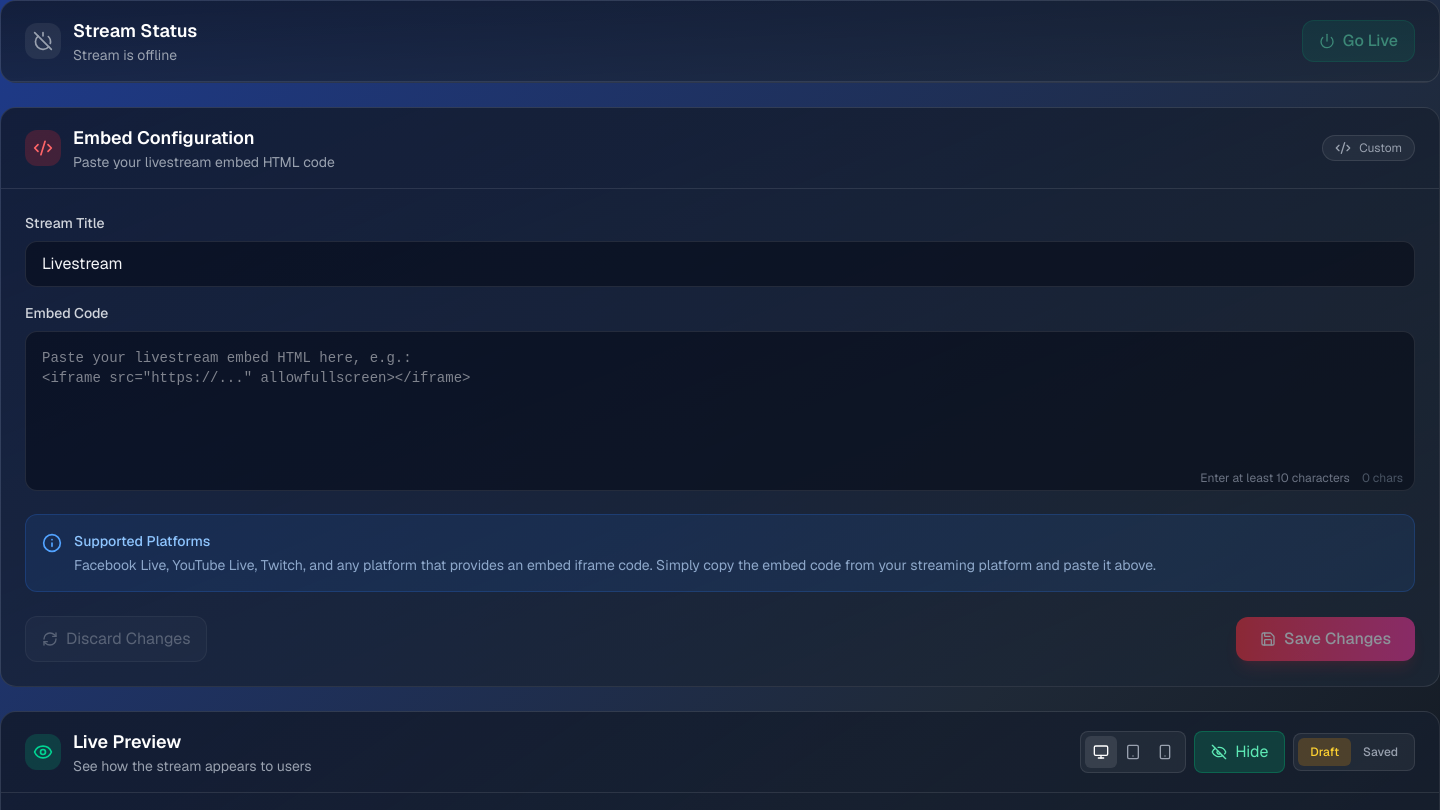
Test: LiveStreamManager › discards back to defaults when nothing was saved
Replace the text in the field with placeholder "Enter stream title" with "Something" at [720, 264], box [25, 241, 1415, 287]
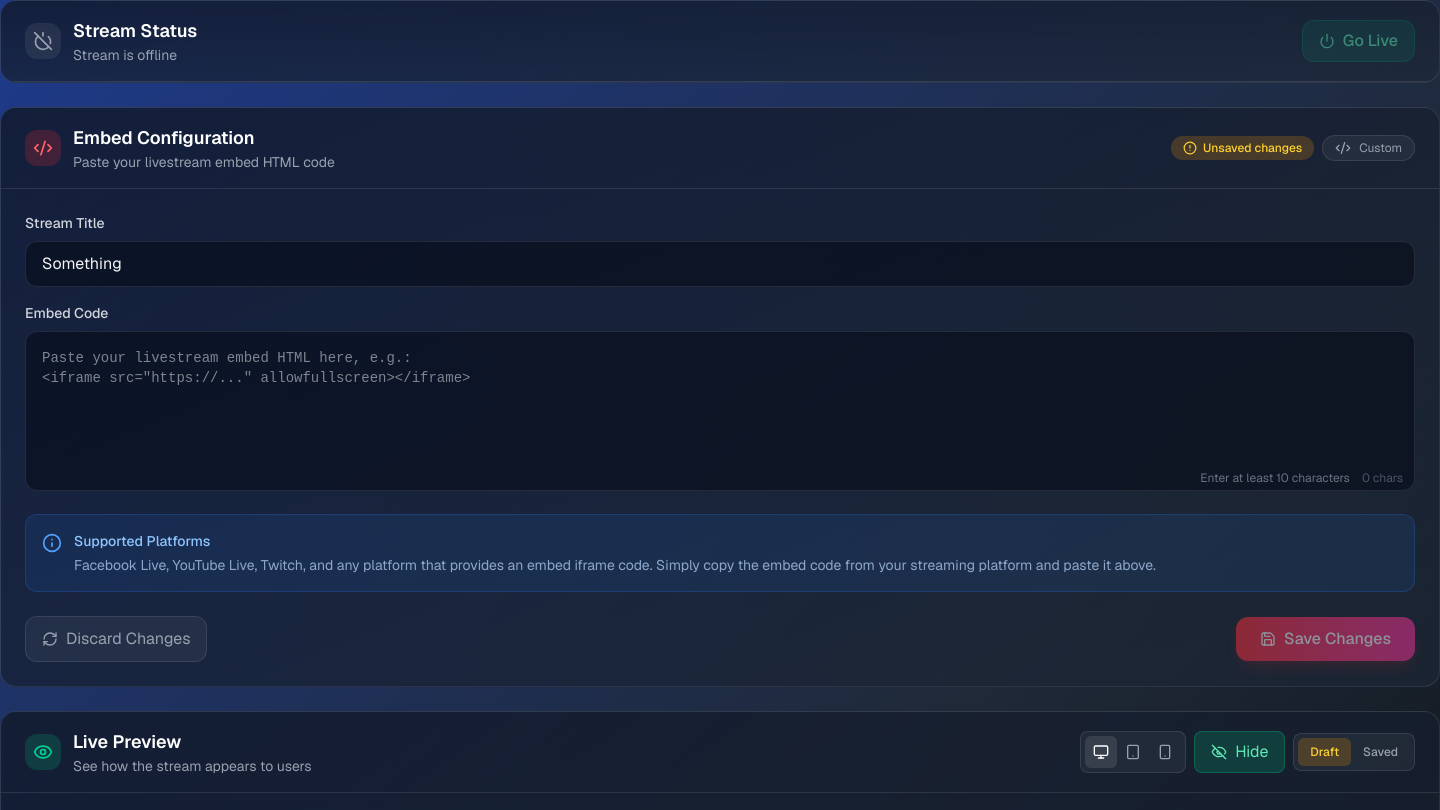
Click the button "Discard Changes".
click(116, 639)  # box [25, 616, 208, 662]
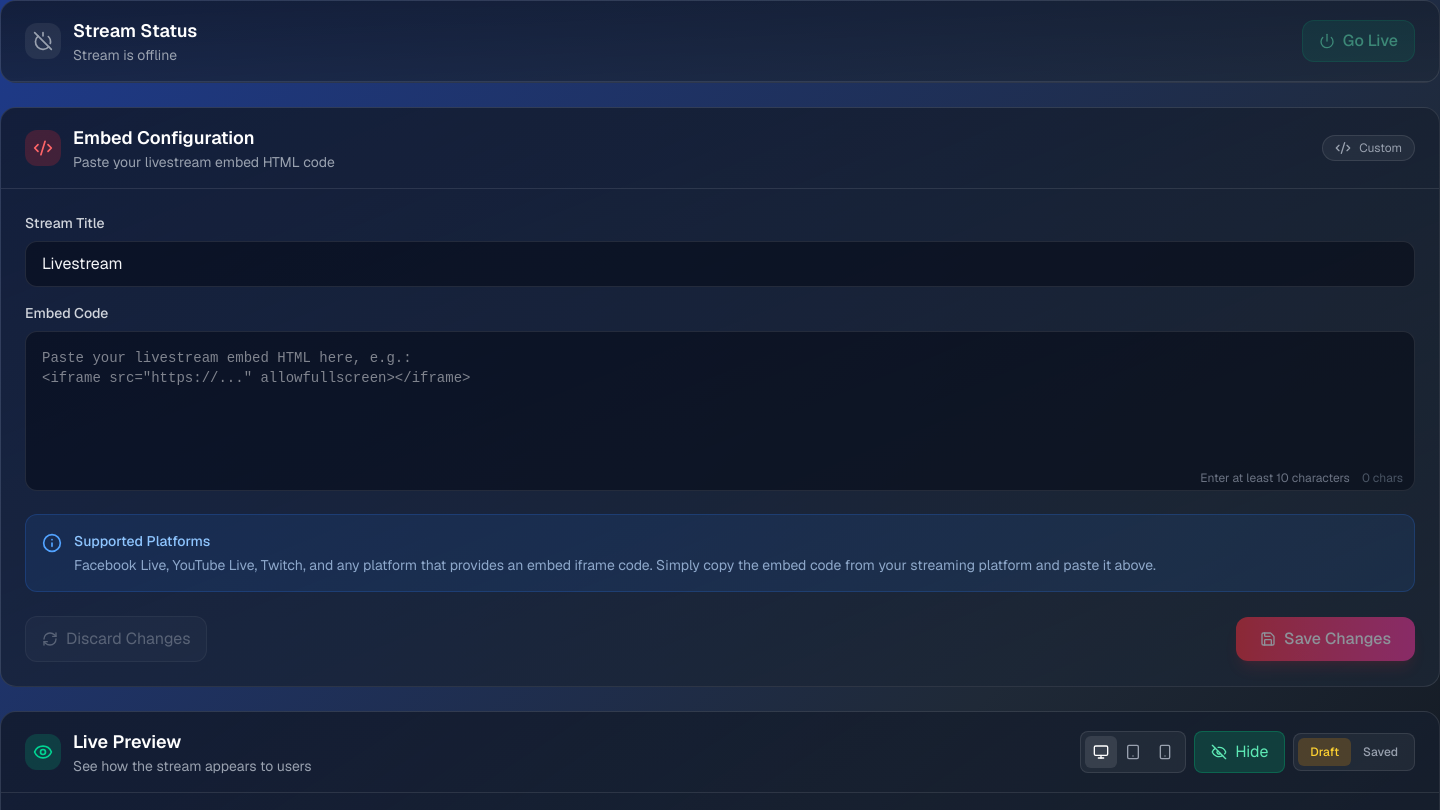
Expected: the field with placeholder "Enter stream title" holds "Livestream", [25, 241, 1415, 287]
